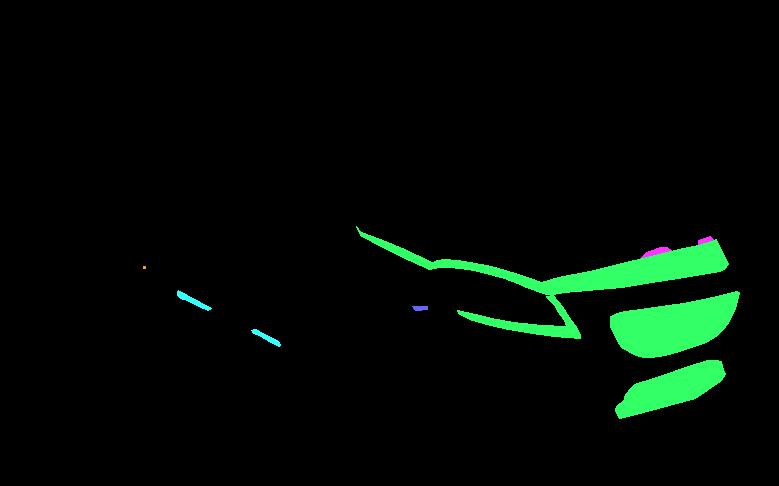Broken part: (356, 226, 728, 294), (610, 291, 739, 357), (615, 360, 725, 418), (457, 295, 580, 338)
Dent: (637, 247, 672, 261), (698, 236, 715, 247)
Flaking: (177, 290, 211, 310), (251, 329, 280, 346)
Paint chip: (143, 266, 145, 268)
Scratch: (412, 306, 427, 310)
